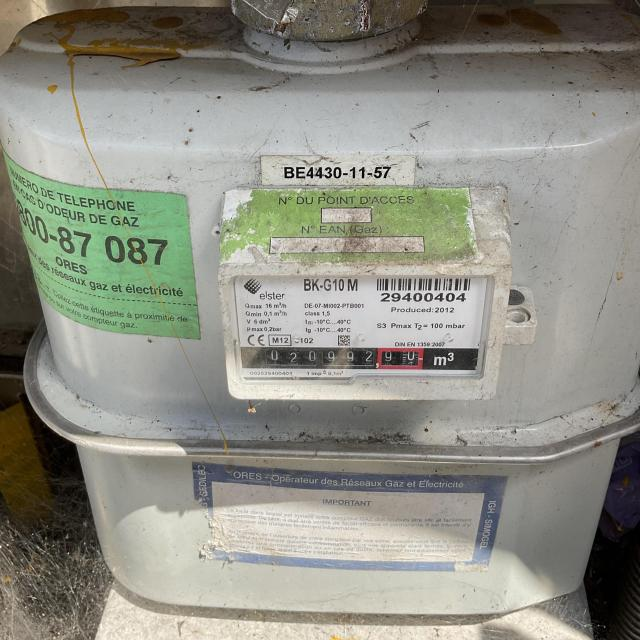gaz_meter: (230, 269, 490, 379)
indication: (240, 345, 422, 368)
